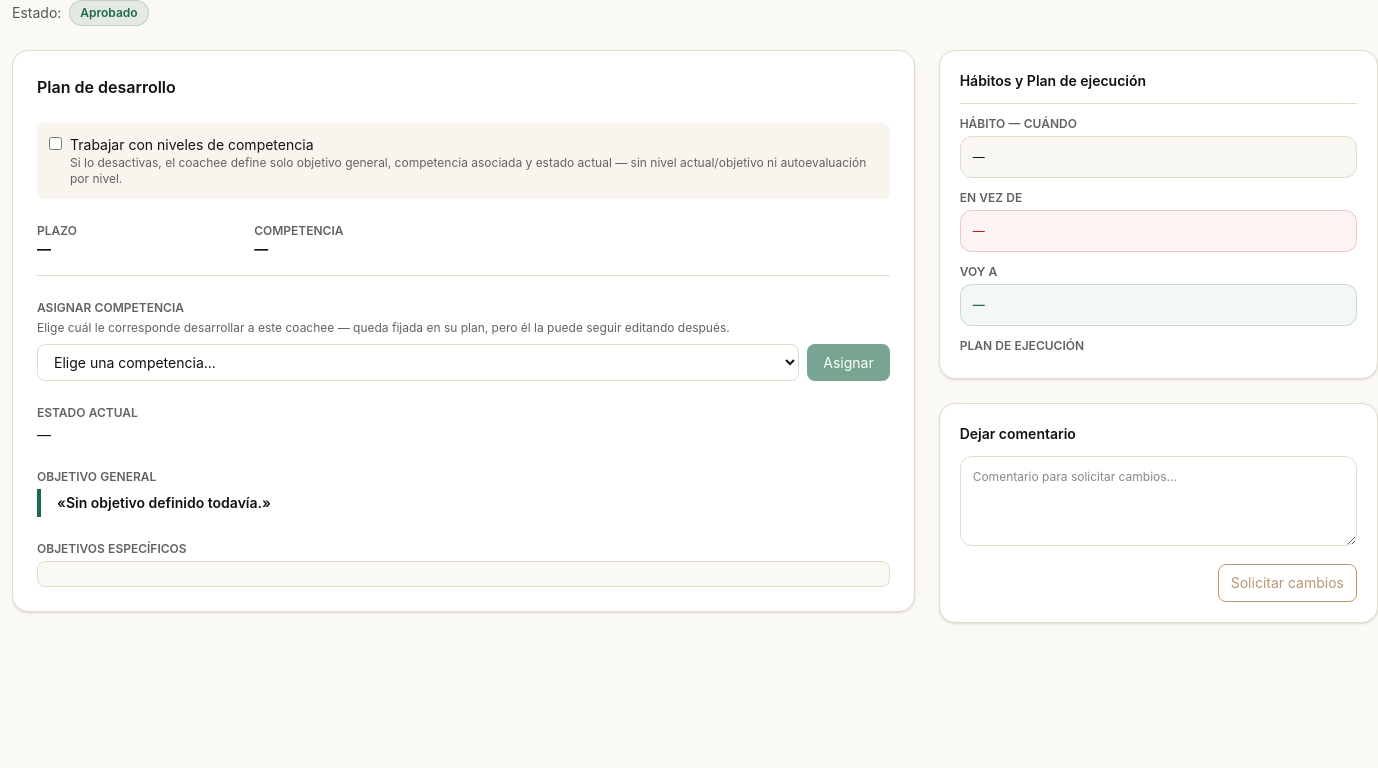
Test: PlanTab › hides the nivel tiles when the plan does not work with niveles, and lets the coach turn them on
Expected: the text "Nivel objetivo" is not shown
Click the checkbox.
click(56, 144)  # box x1=49 y1=137 x2=62 y2=150
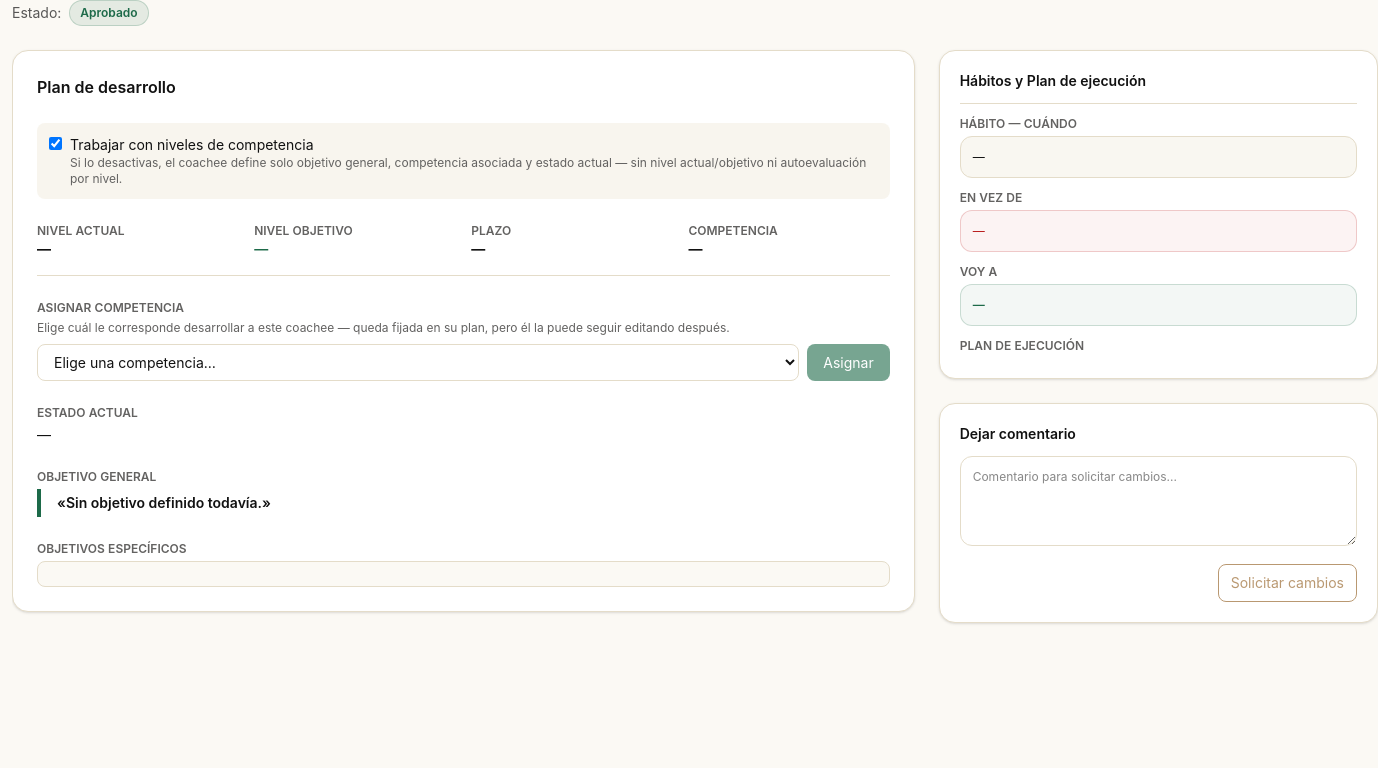
Expected: the text "Nivel objetivo" is shown, x1=254 y1=223 x2=353 y2=238
